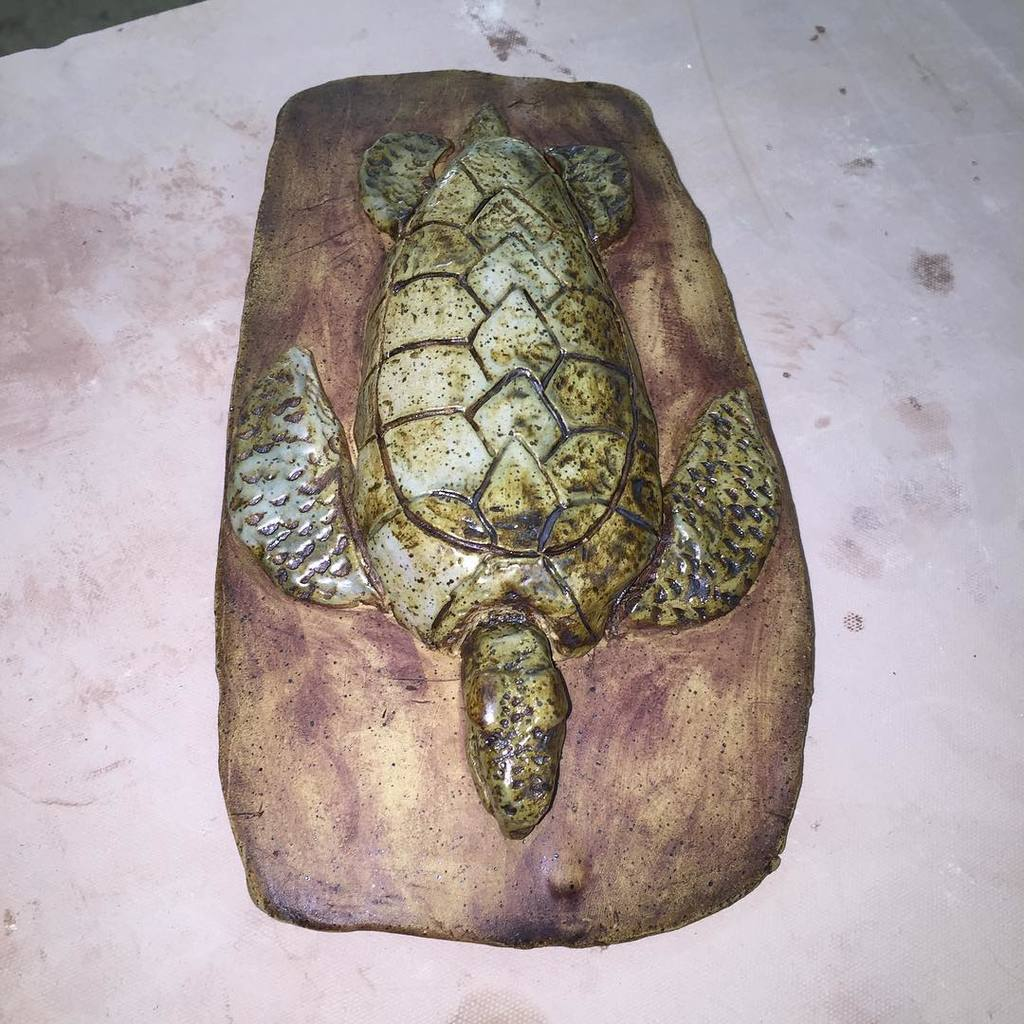Sea turtles: (222, 93, 780, 845)
